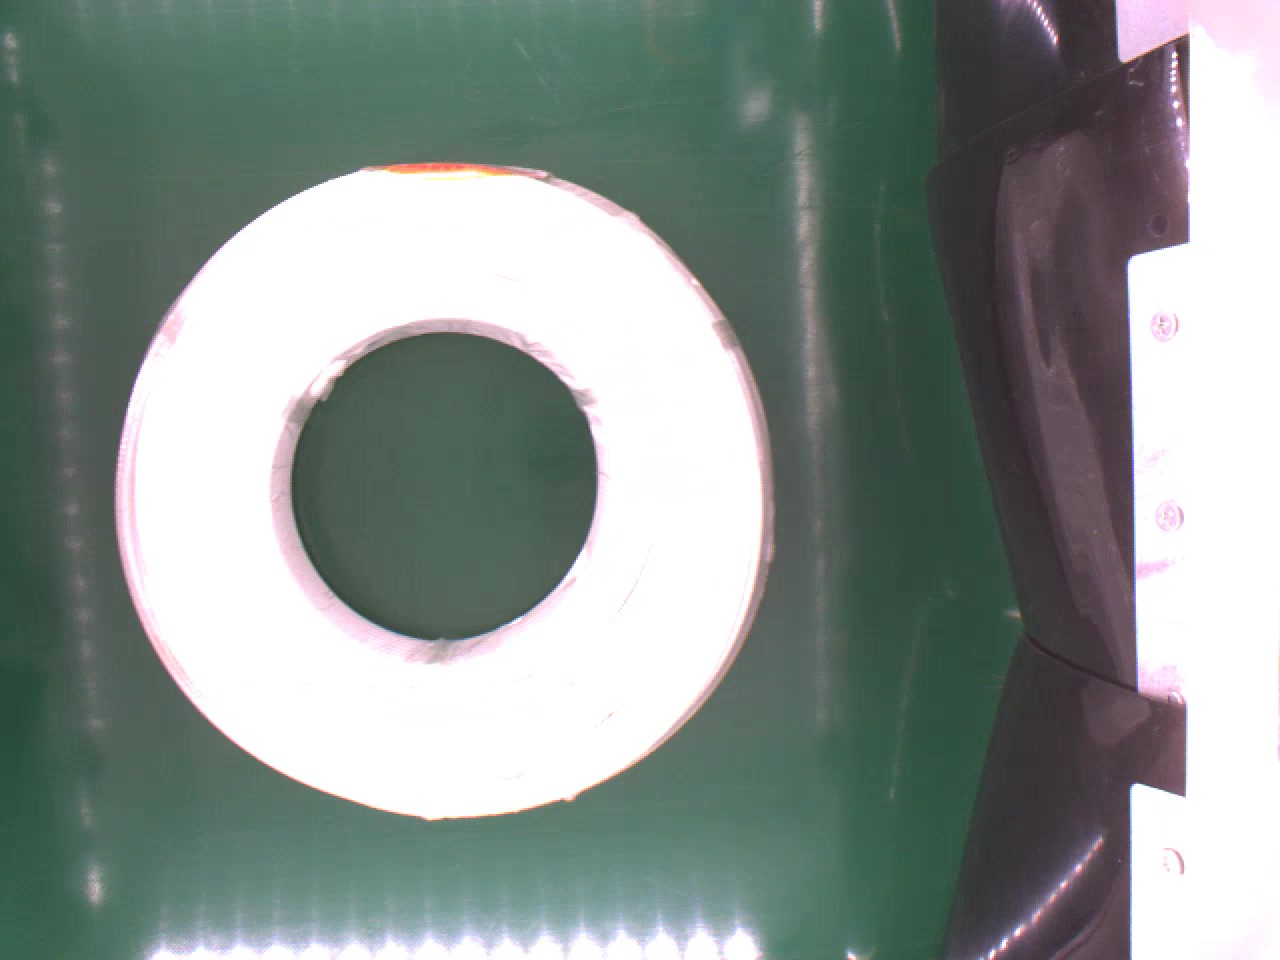white: (106, 157, 782, 826)
